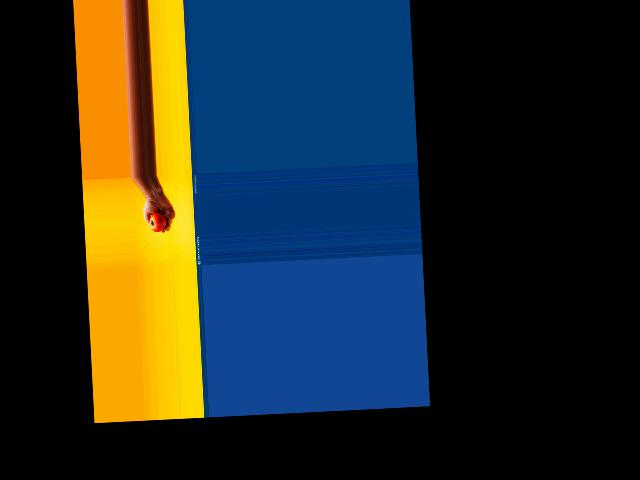tomato: (149, 212, 166, 232)
